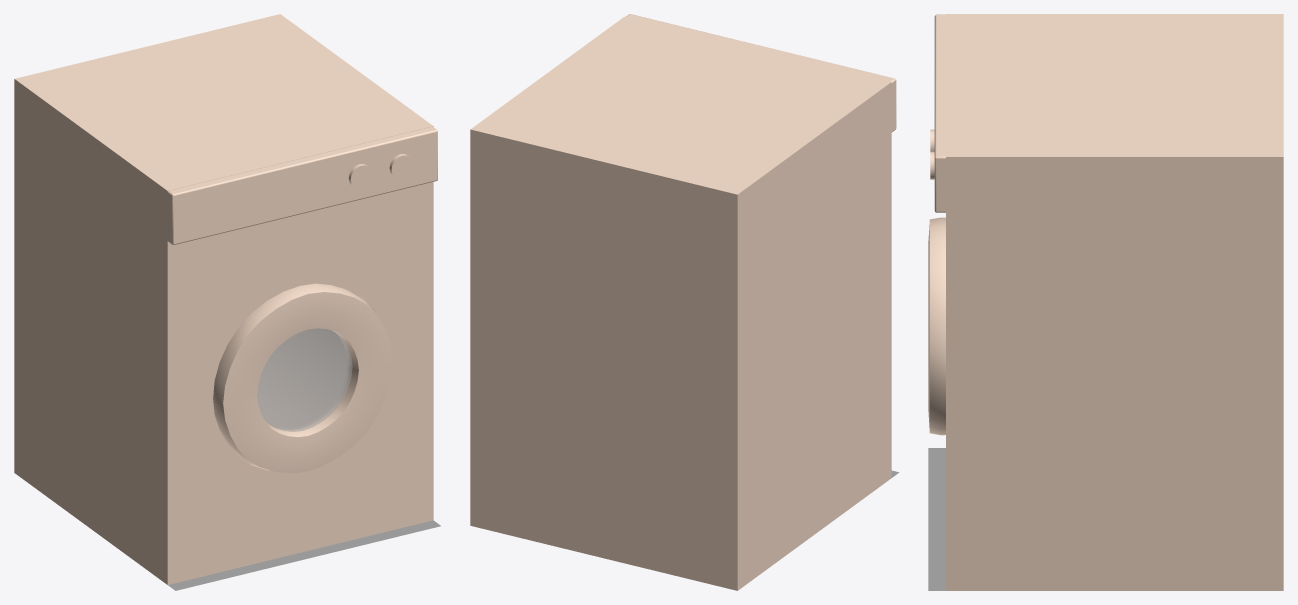
Rendered from Lavadora.obj.
3 renders of one model, left to right at view 1: azimuth 30°, elevation 25°; view 2: azimuth 150°, elevation 25°; view 3: azimuth 270°, elevation 25°, orthographic. The views are drawn at different scales.
Visible parts, largest first — view 1: Body_4, sweethome3d_opening_on_hinge_1_doorFront_15, Pannel_2, sweethome3d_window_pane_on_hinge_1_16, Body_120_7, sweethome3d_opening_on_hinge_1_door_2_13, ground_1, Pannel_6_3; view 2: Body_4, Pannel_2; view 3: Body_4, sweethome3d_opening_on_hinge_1_door_2_13, ground_1, Pannel_2, Pannel_6_3.
Part boxes in pixels (x1,y1,x2,y2): Body_4: (14,14,433,584); sweethome3d_opening_on_hinge_1_doorFront_15: (223,292,392,473); Pannel_2: (167,127,437,244); sweethome3d_window_pane_on_hinge_1_16: (257,328,352,431); Body_120_7: (257,328,347,428); sweethome3d_opening_on_hinge_1_door_2_13: (213,283,376,466); ground_1: (168,520,440,590); Pannel_6_3: (167,126,437,245); Body_4: (470,17,891,590); Pannel_2: (626,14,895,131); Body_4: (946,14,1283,590); sweethome3d_opening_on_hinge_1_door_2_13: (929,217,945,435); ground_1: (928,448,945,590); Pannel_2: (936,15,945,211); Pannel_6_3: (934,14,945,212).
Bounding box in the file's own units: 60 × 85 × 63.
